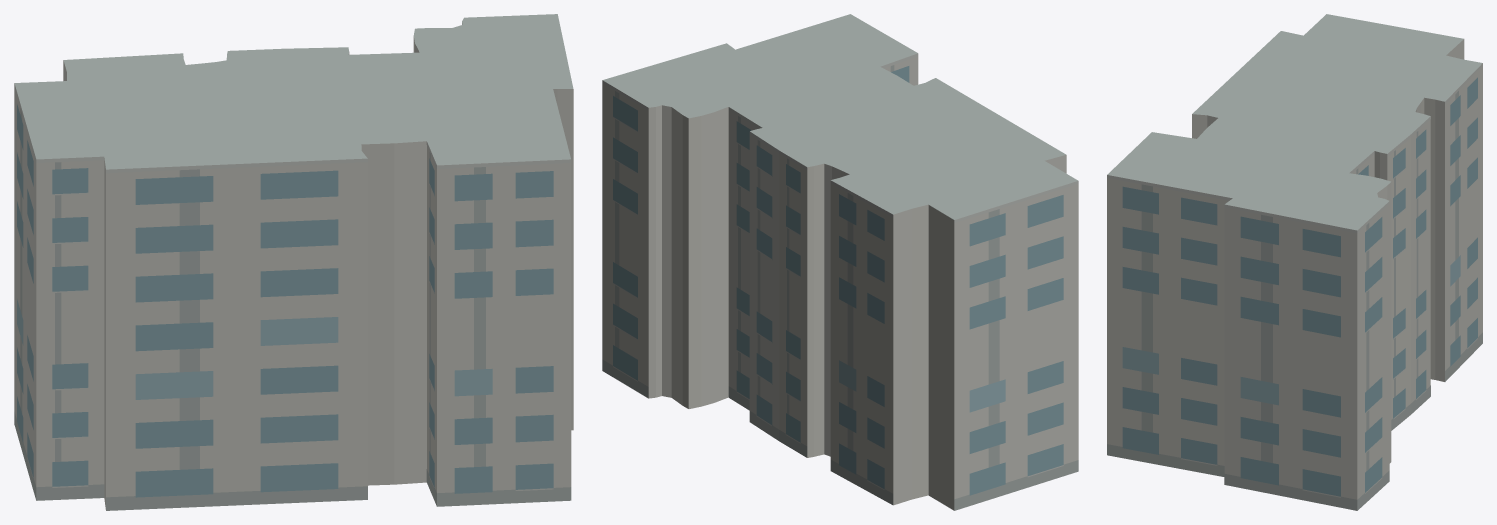
Rendered from survey-upis-32888459.glb.
The picture shows the model from 3 angles, left to right: view 1: azimuth 30°, elevation 25°; view 2: azimuth 150°, elevation 25°; view 3: azimuth 270°, elevation 25°; orthographic projection. The views are drawn at different scales.
Visible parts, largest first — view 1: survey-upis-32888459.tmp; view 2: survey-upis-32888459.tmp; view 3: survey-upis-32888459.tmp.
Boxes of the visible parts, bbox=[...] form: survey-upis-32888459.tmp: bbox=[14, 14, 573, 510]; survey-upis-32888459.tmp: bbox=[602, 14, 1078, 510]; survey-upis-32888459.tmp: bbox=[1107, 14, 1482, 510].
Bounding box in the file's own units: 37.1 × 22.4 × 27.22.
